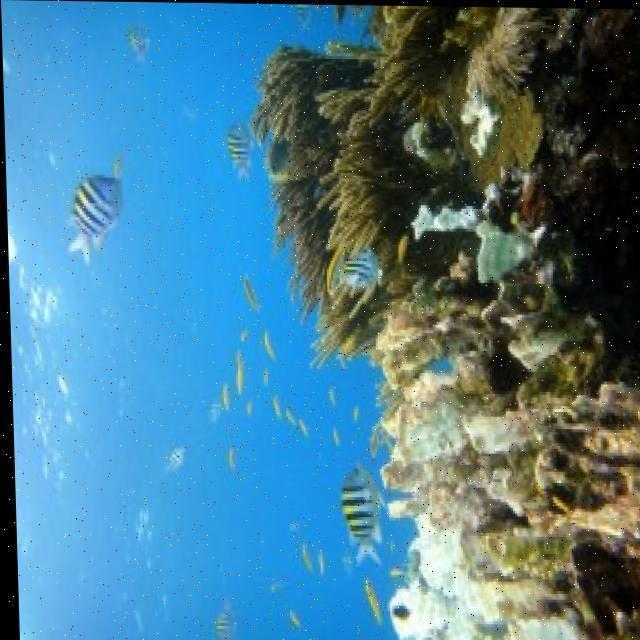Bleached Coral: (356, 506, 537, 640), (384, 159, 551, 302)
